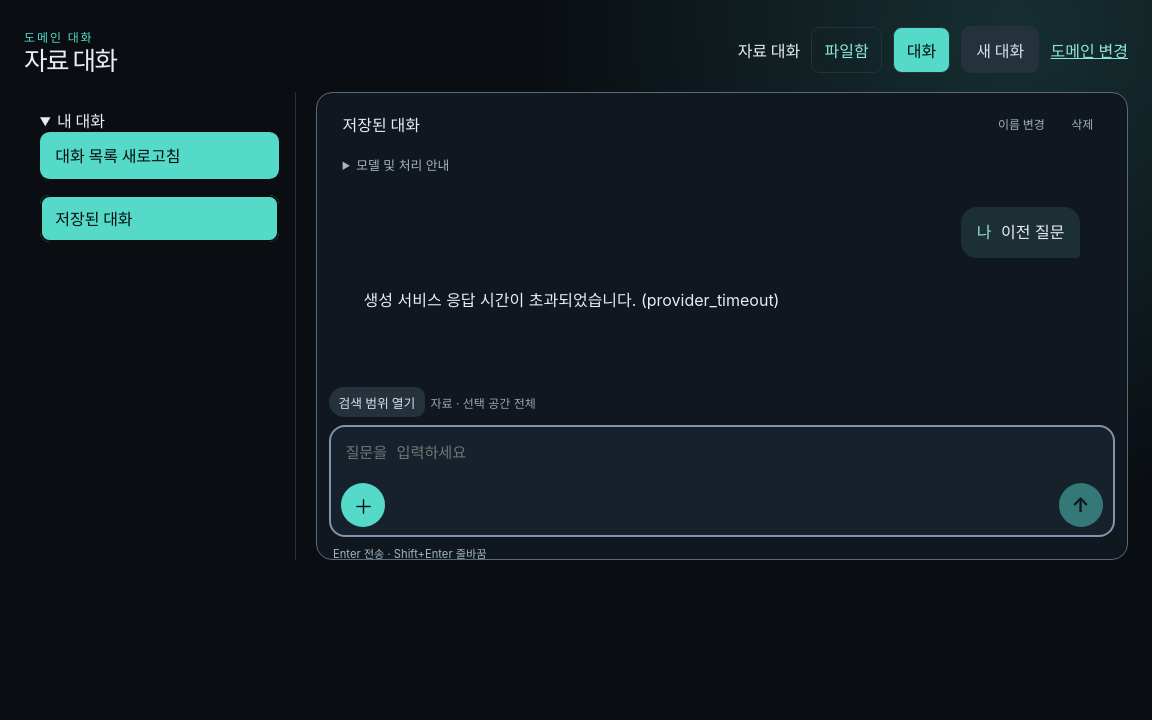
Scenario: restores the URL-selected server conversation and preserves it on new chat
The width and height of the screenshot is (1152, 720).
Expected: the text "이전 질문" is shown, [1001,222,1064,242]
Expected: the text "생성 서비스 응답 시간이 초과되었습니다. (provider_timeout)" is shown, [364,290,779,310]
Click the button "새 대화": {"x": 1000, "y": 50} [961,26,1039,73]
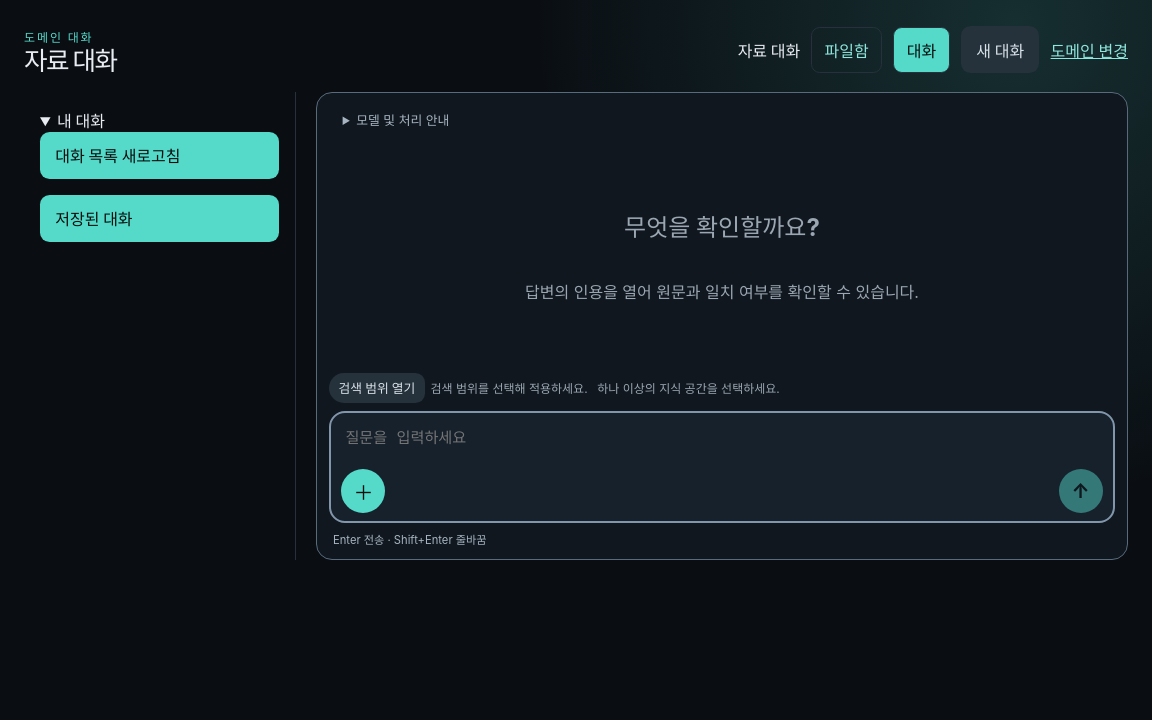
Expected: the button "저장된 대화" is shown, [40,195,279,242]
Result: the text "이전 질문" is gone
